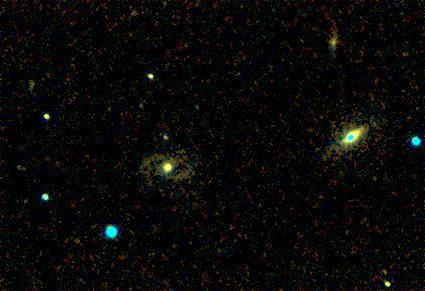star: (151, 124, 181, 154)
